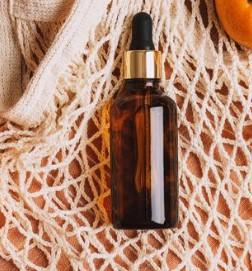glass: (108, 11, 180, 230)
